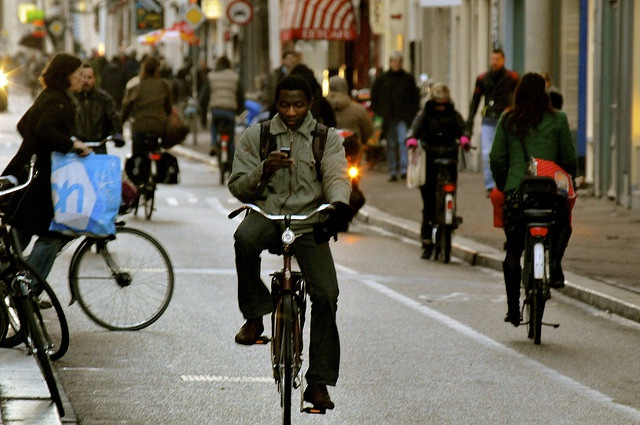non-vehicle: (229, 207, 329, 419), (0, 154, 66, 415), (69, 220, 174, 335), (515, 207, 561, 344), (434, 157, 463, 263), (128, 149, 159, 220), (214, 112, 230, 186)
